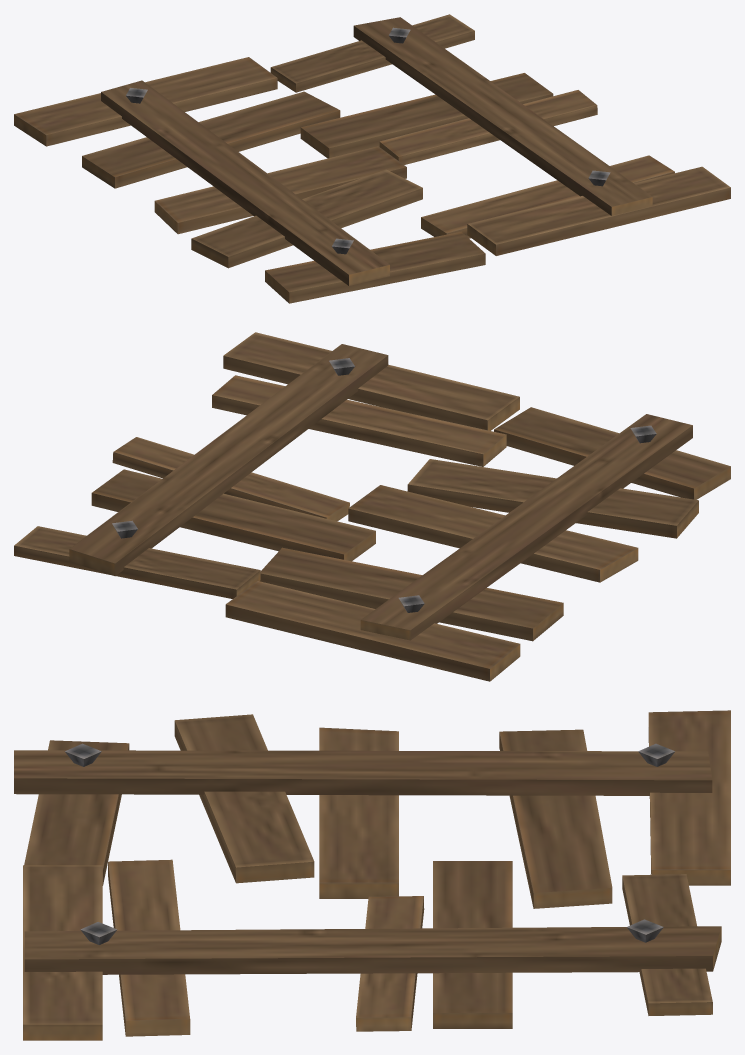
File: wood_prop_1.FBX
3 views of the same model, one above another, from view 1: azimuth 30°, elevation 25°; view 2: azimuth 150°, elevation 25°; view 3: azimuth 270°, elevation 25° (orthographic). The views are drawn at different scales.
Parts seen in each view (by area): view 1: polySurface2104; view 2: polySurface2104; view 3: polySurface2104.
Part boxes in pixels (x1,y1,x2,y2): polySurface2104: (14, 14, 730, 303); polySurface2104: (14, 332, 730, 681); polySurface2104: (14, 710, 730, 1040).
Bounding box in the file's own units: 83.77 × 80.75 × 6.38.
